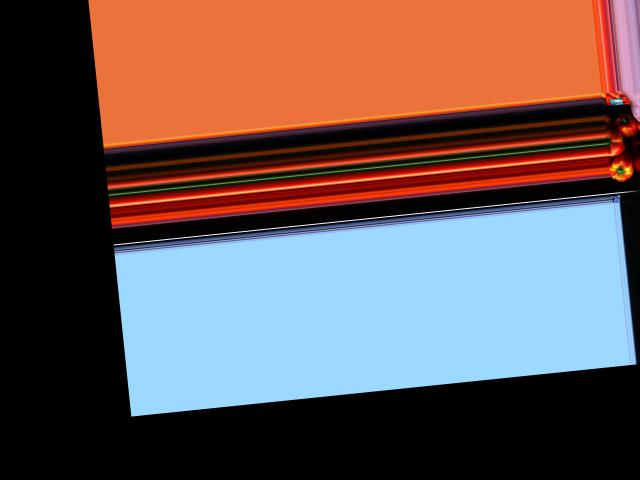bell_pepper: (612, 115, 640, 139)
